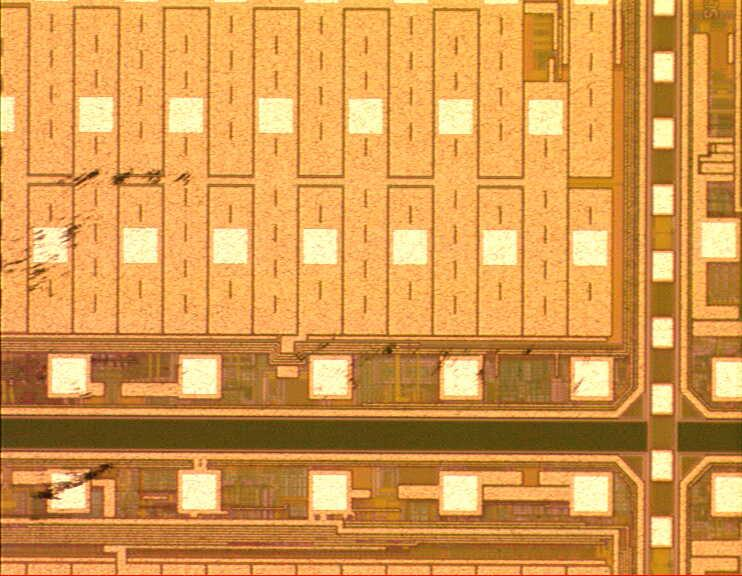SCRATCH: (1, 164, 612, 513)
